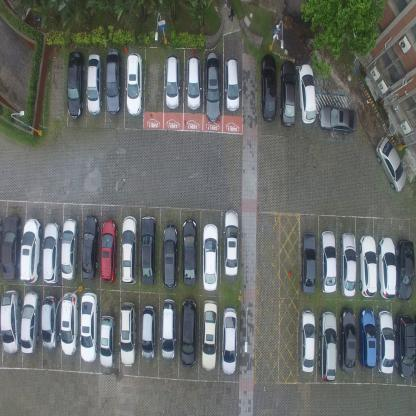car: (375, 134, 406, 194), (394, 312, 416, 380), (20, 217, 42, 283), (0, 212, 21, 281), (0, 288, 21, 354), (318, 310, 337, 382), (66, 50, 85, 120), (378, 235, 398, 300), (358, 234, 378, 299), (80, 290, 98, 362), (20, 290, 40, 354), (396, 238, 416, 300), (297, 62, 317, 124), (60, 291, 79, 356), (376, 308, 394, 376), (279, 60, 297, 127), (125, 53, 144, 116), (221, 306, 238, 376), (121, 214, 138, 284), (204, 52, 221, 122), (358, 308, 377, 370), (42, 222, 61, 284), (104, 46, 121, 115), (318, 104, 357, 134), (119, 301, 137, 366), (202, 299, 218, 372), (180, 297, 196, 369), (140, 214, 156, 286), (100, 218, 118, 282), (340, 304, 356, 374), (60, 217, 78, 279), (82, 215, 99, 280), (260, 52, 276, 121), (181, 217, 197, 286), (340, 230, 356, 298), (86, 52, 103, 116), (224, 209, 239, 279), (41, 294, 59, 352), (162, 224, 178, 289), (320, 229, 336, 293), (160, 296, 176, 360), (203, 223, 218, 291), (300, 231, 316, 294), (300, 308, 315, 374), (141, 304, 158, 359), (224, 55, 240, 111), (165, 52, 181, 108), (100, 314, 116, 367), (186, 56, 201, 112)
